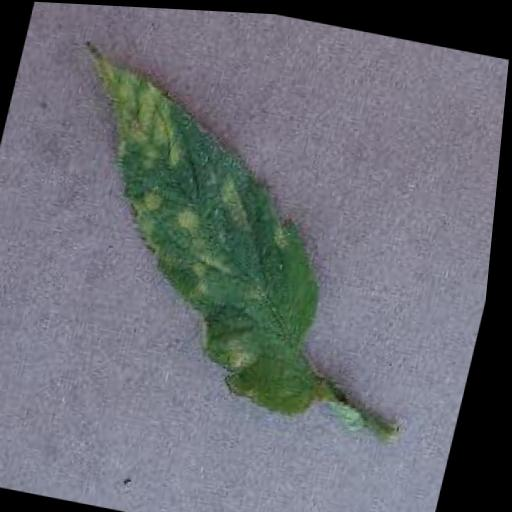Leaf Mold: (13, 40, 395, 417)
